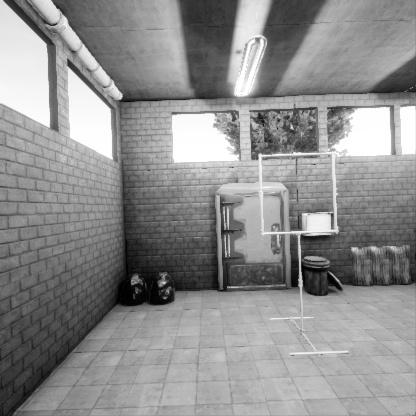gate: (258, 183, 343, 267)
